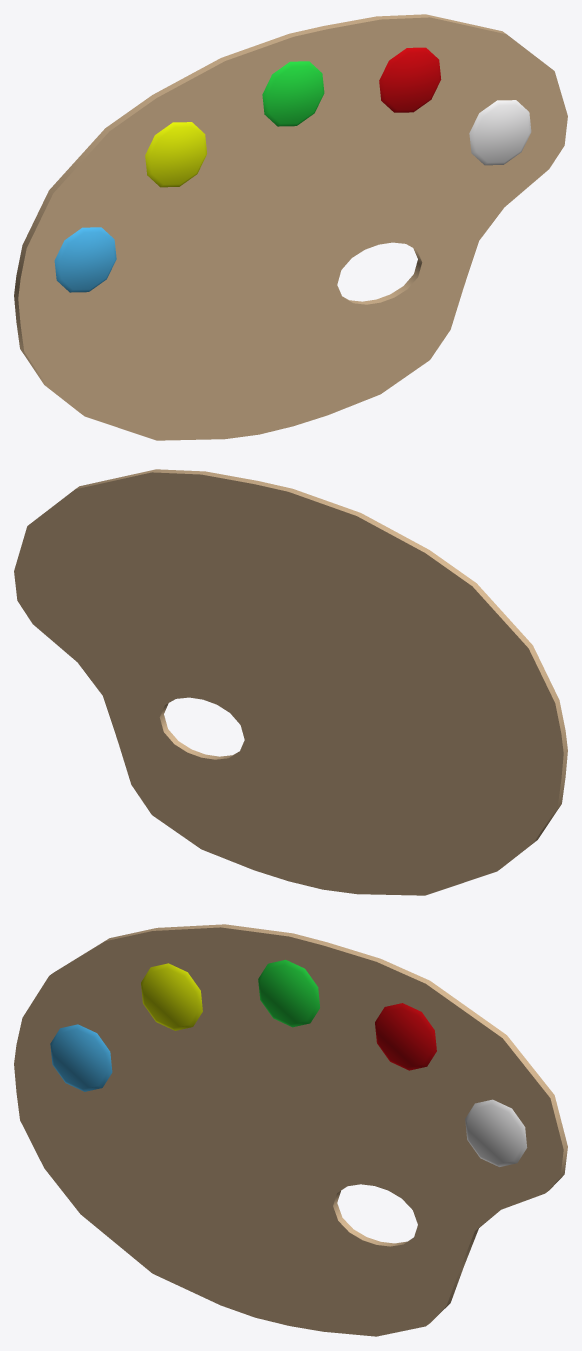
3 views of the same model, one above another, from view 1: azimuth 30°, elevation 25°; view 2: azimuth 150°, elevation 25°; view 3: azimuth 330°, elevation 25° (orthographic).
Visible parts, largest first — view 1: PaintersPalette, Colors; view 2: PaintersPalette; view 3: PaintersPalette, Colors.
Boxes of the visible parts, <box> form: PaintersPalette: <box>14,14,567,440</box>; Colors: <box>54,47,531,292</box>; PaintersPalette: <box>14,469,567,895</box>; PaintersPalette: <box>14,924,567,1336</box>; Colors: <box>50,959,527,1166</box>.
Size of what is drawn, in the model's own units: 0.3312 by 0.2242 by 0.00607.
1 material, 1 textured.
